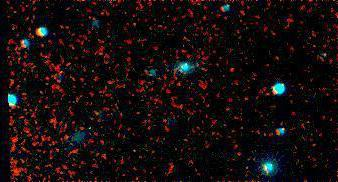star: (220, 52, 250, 82)
